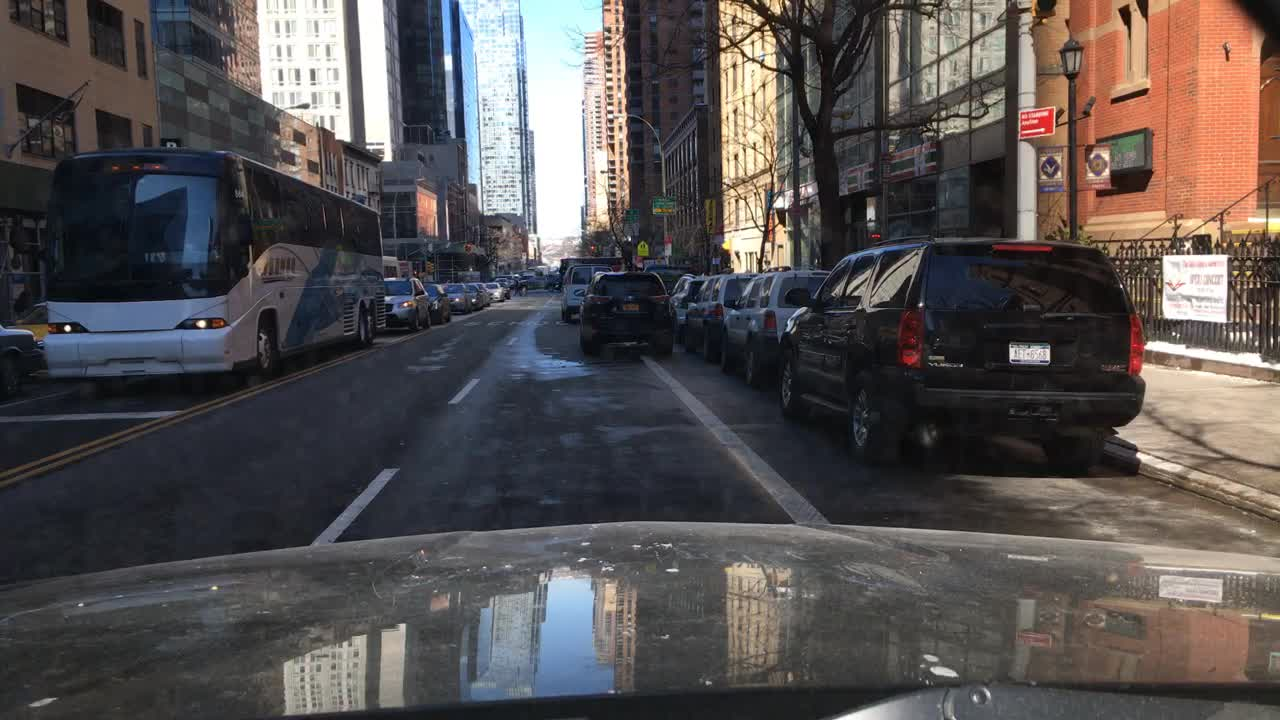bus: (42, 146, 382, 392)
car: (776, 231, 1142, 467), (716, 268, 826, 385), (577, 266, 676, 354), (683, 272, 748, 357), (0, 315, 48, 398), (557, 262, 611, 322), (666, 269, 712, 338), (381, 275, 430, 330), (13, 298, 54, 342), (422, 278, 454, 325), (643, 263, 692, 291), (442, 278, 469, 310), (466, 280, 487, 312), (525, 274, 550, 295), (481, 280, 506, 301), (495, 274, 516, 289), (474, 280, 489, 301), (516, 266, 539, 274)
traffic sign: (1035, 147, 1065, 192), (1082, 144, 1109, 192), (1018, 105, 1056, 139), (653, 197, 677, 217), (624, 208, 637, 238), (633, 241, 649, 256)
